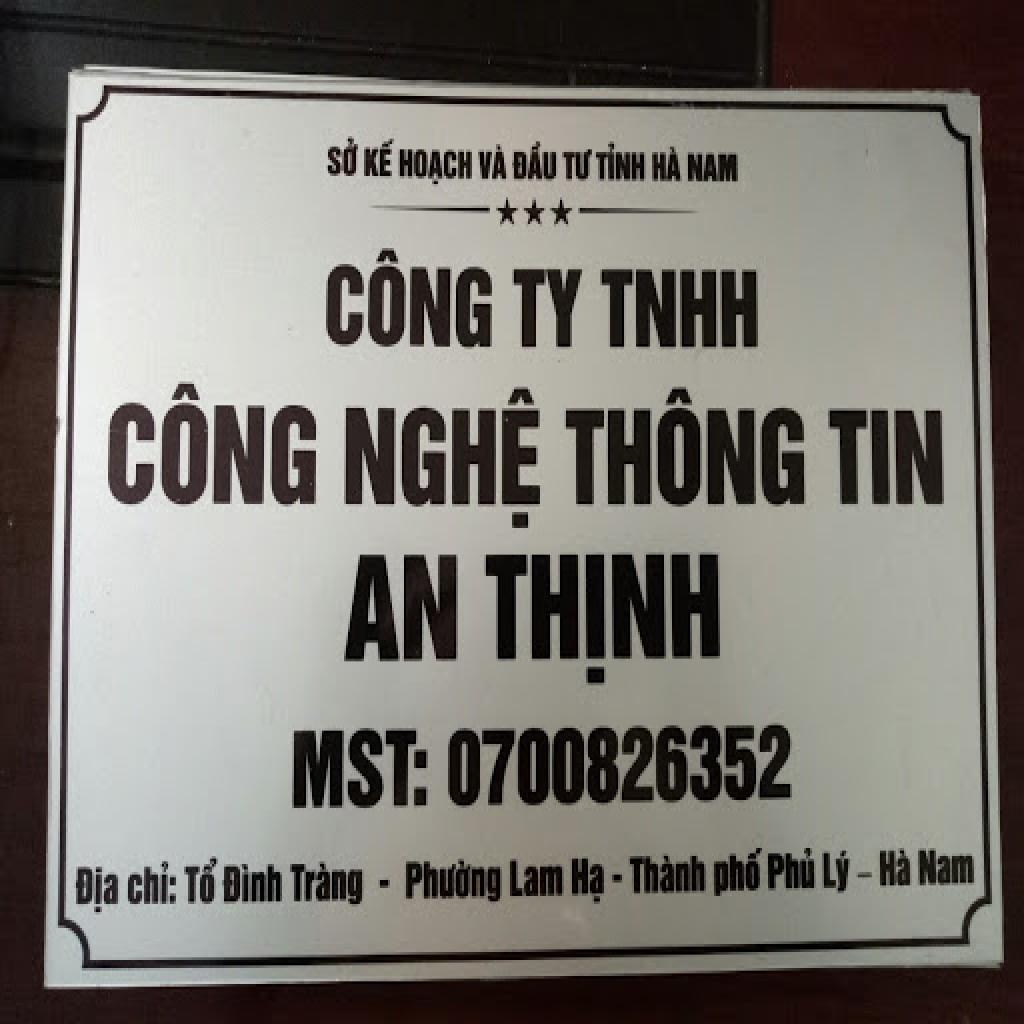text: (484, 552, 722, 688), (560, 384, 808, 509), (448, 722, 794, 810), (342, 384, 544, 531), (106, 379, 320, 509), (322, 245, 494, 352), (340, 552, 460, 667), (600, 267, 760, 352), (826, 408, 946, 509), (292, 728, 430, 813), (512, 267, 586, 352), (402, 856, 504, 909), (288, 859, 366, 909), (628, 850, 708, 898), (398, 147, 474, 189), (712, 846, 766, 902), (220, 861, 284, 907), (72, 864, 122, 917), (508, 856, 566, 901), (126, 859, 178, 909), (766, 846, 818, 894), (594, 139, 648, 184), (508, 139, 560, 184), (686, 149, 742, 187), (182, 853, 220, 907), (570, 856, 608, 909), (326, 133, 362, 179), (820, 848, 854, 896), (650, 144, 686, 187), (878, 848, 914, 891), (362, 136, 396, 181), (476, 141, 510, 184), (560, 147, 594, 184)
